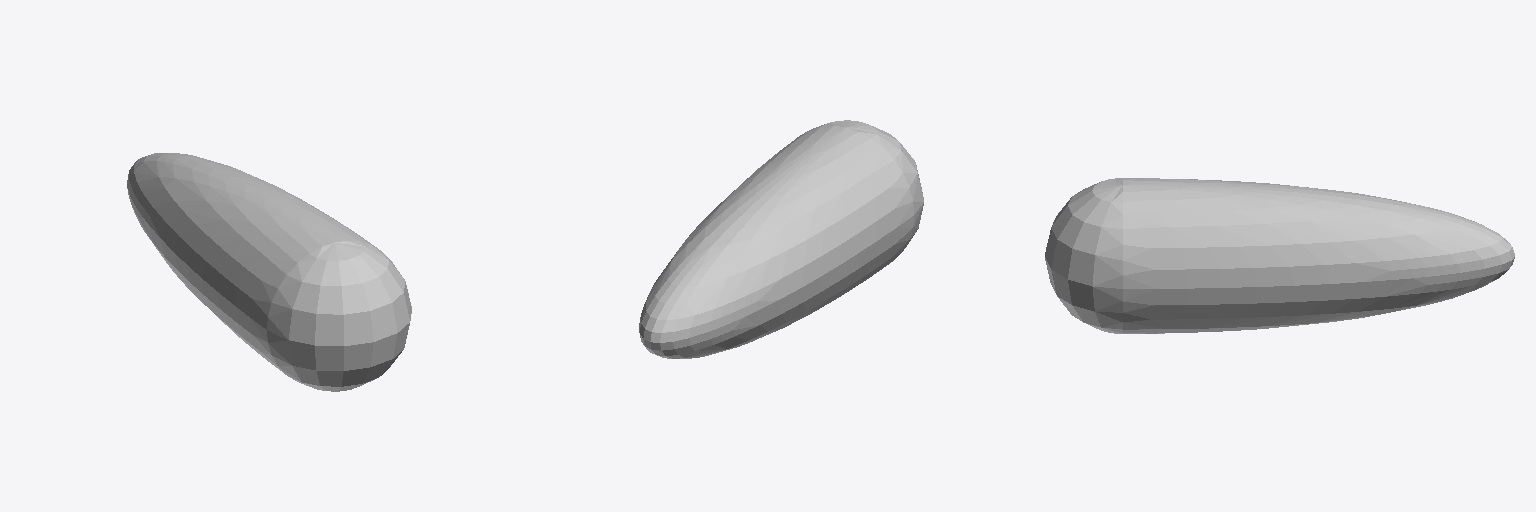
Rendered from RL_LEG_THIGH.obj.
The picture shows the model from 3 angles: view 1: azimuth 30°, elevation 25°; view 2: azimuth 150°, elevation 25°; view 3: azimuth 270°, elevation 25°; orthographic projection.
Size of the model in its own units: 0.1653 by 0.1653 by 0.4973.